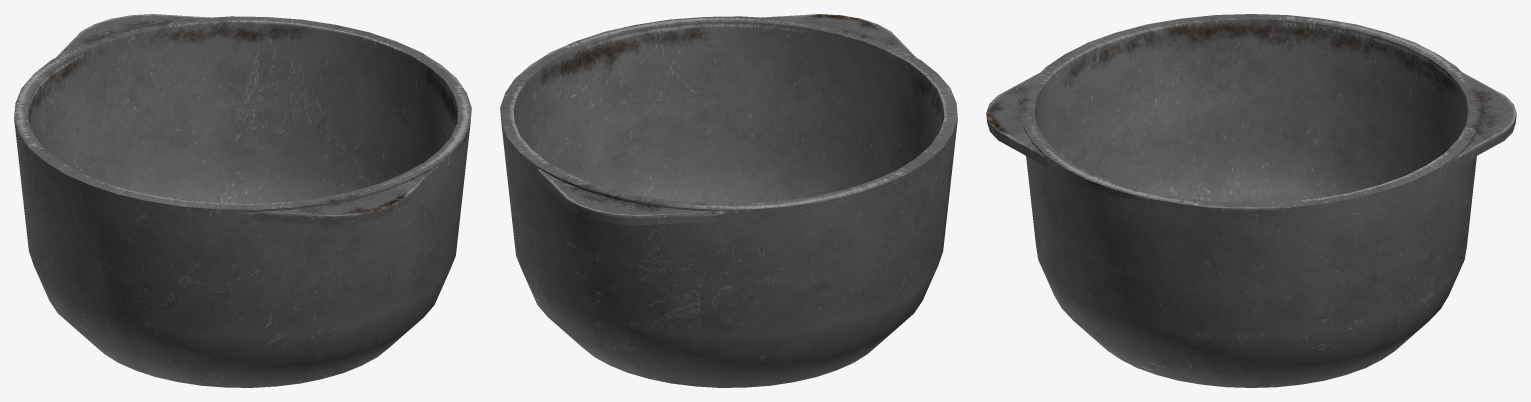
The model's file is Cauldron01.FBX.
The picture shows the model from 3 angles, left to right: view 1: azimuth 30°, elevation 25°; view 2: azimuth 150°, elevation 25°; view 3: azimuth 270°, elevation 25°; orthographic projection.
Visible parts, largest first — view 1: Cauldron01_LOD0; view 2: Cauldron01_LOD0; view 3: Cauldron01_LOD0.
Part boxes in pixels (x1=…): Cauldron01_LOD0: x1=14, y1=14, x2=471, y2=387; Cauldron01_LOD0: x1=500, y1=14, x2=957, y2=387; Cauldron01_LOD0: x1=986, y1=14, x2=1516, y2=387.
Size of the model in its own units: 20.98 by 24.16 by 10.71.
